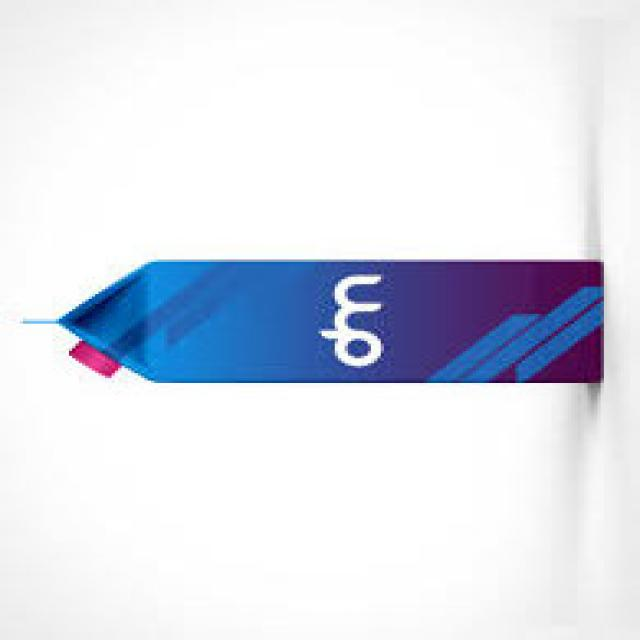non_white_jug: (19, 255, 609, 388)
